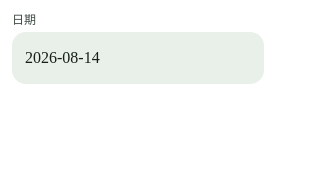
Test: DateField › a day before `min` never borrows the "not later than tomorrow" wording
Replace the text in the field with test id "date" with "2026-07-20" at (125, 58), box [25,49,225,67]
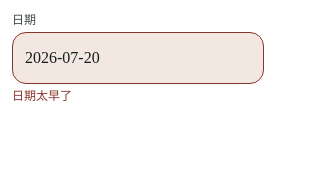
Expected: the text "日期太早了" is shown, [12,89,72,103]
